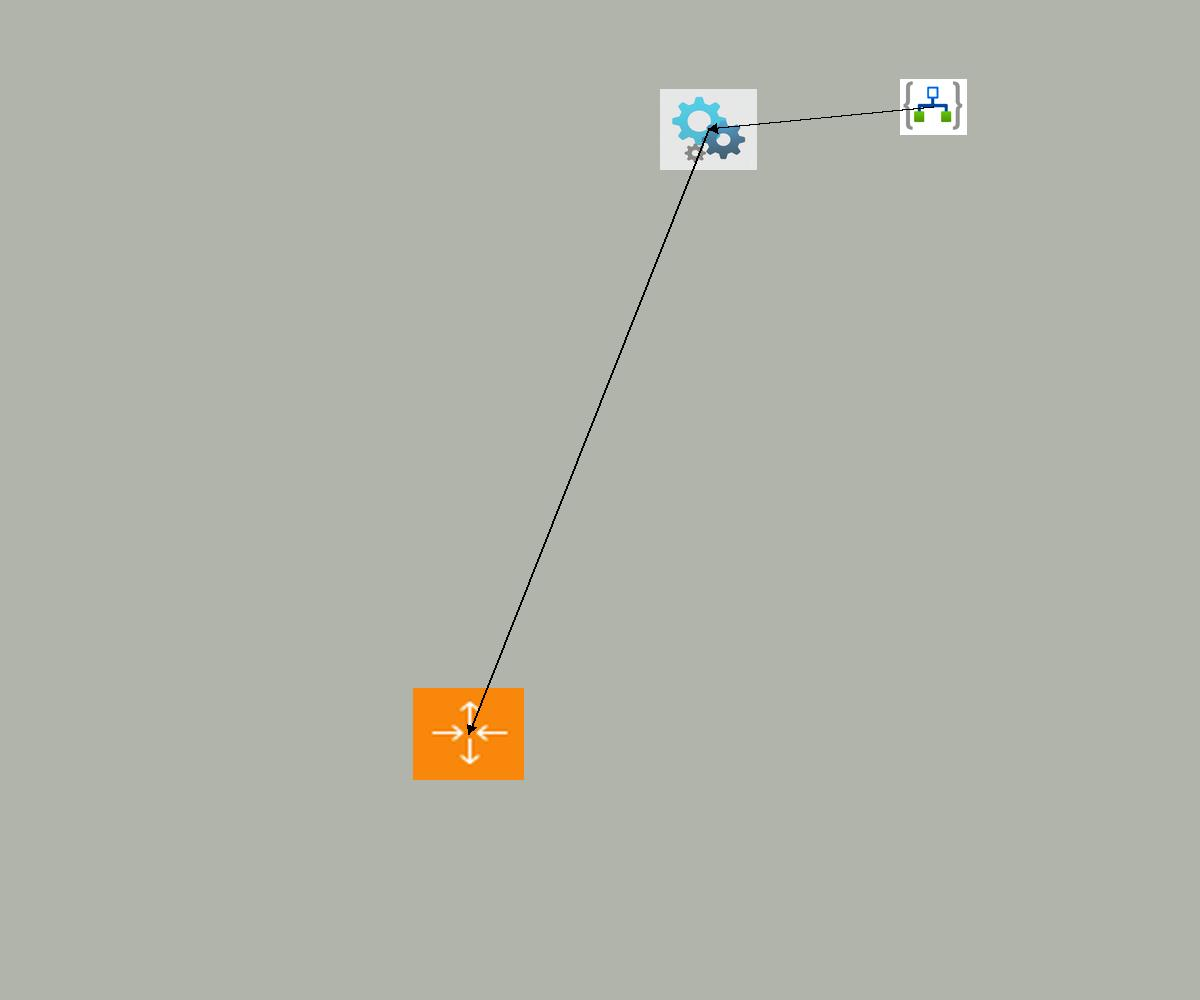AWS-Scaling-group: (413, 688, 524, 780)
Azure_api: (660, 89, 757, 170)
Azure_integration-204-Logic-Apps: (900, 79, 967, 135)
